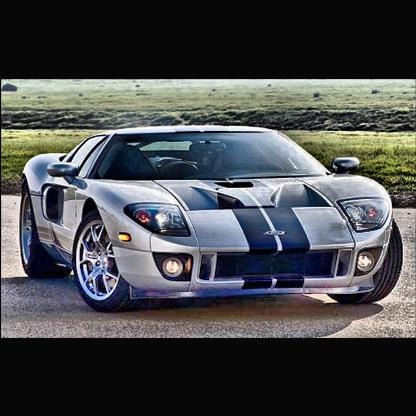Ford GT Coupe 2006: (20, 127, 405, 306)
